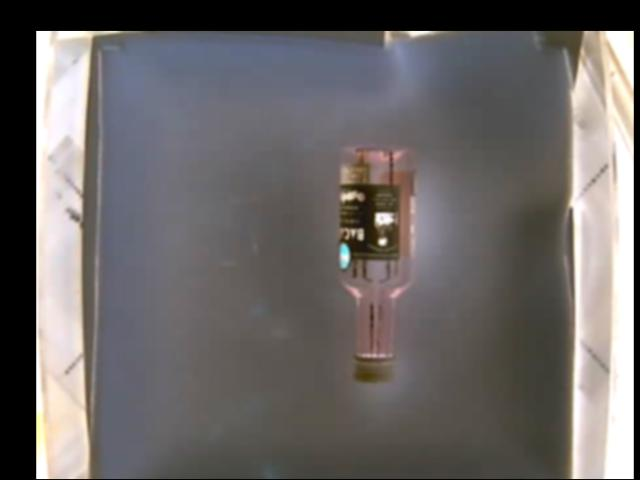Bottle: (338, 144, 415, 384)
